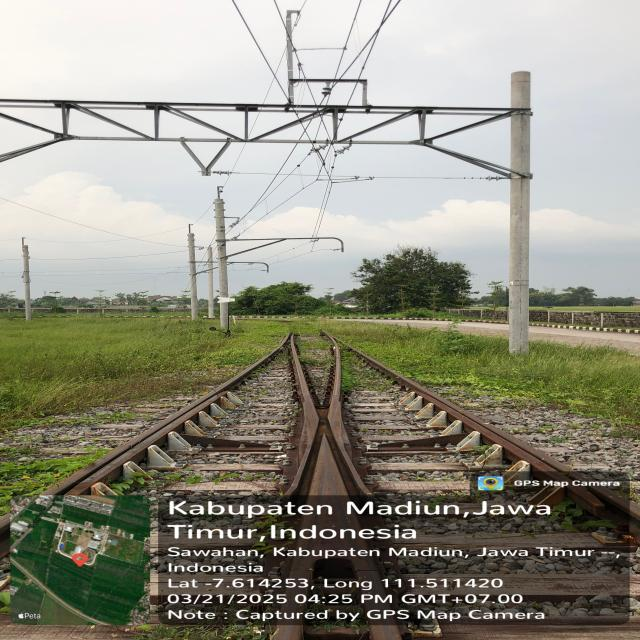rail-detection: (41, 347, 281, 495), (350, 347, 569, 480), (290, 336, 319, 475), (308, 435, 347, 496), (327, 343, 349, 450)
